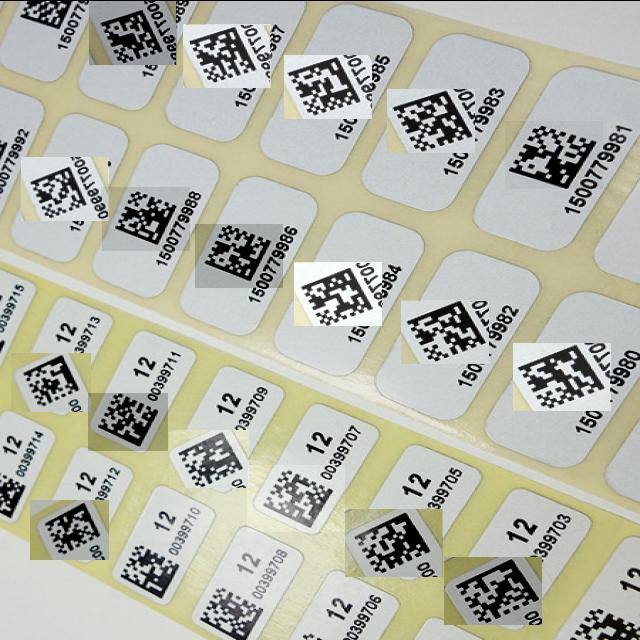DataMatrix: (505, 120, 603, 188), (514, 342, 612, 410), (444, 556, 542, 624), (346, 508, 444, 576), (248, 464, 346, 531), (21, 156, 110, 220), (401, 298, 489, 362), (294, 260, 382, 324), (195, 223, 283, 287), (102, 186, 190, 250), (90, 0, 178, 64), (184, 22, 272, 86), (284, 54, 372, 118), (387, 88, 475, 152), (30, 499, 109, 559), (11, 352, 91, 411), (108, 540, 188, 599), (169, 429, 249, 487), (88, 392, 168, 450), (193, 581, 273, 639)
